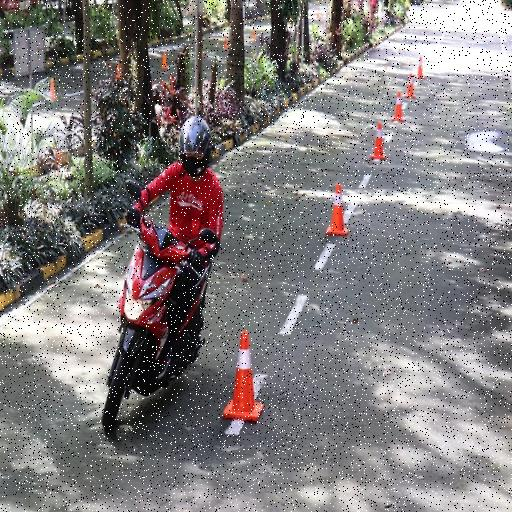Helmet: (181, 103, 214, 177)
Motor: (82, 210, 220, 438)
